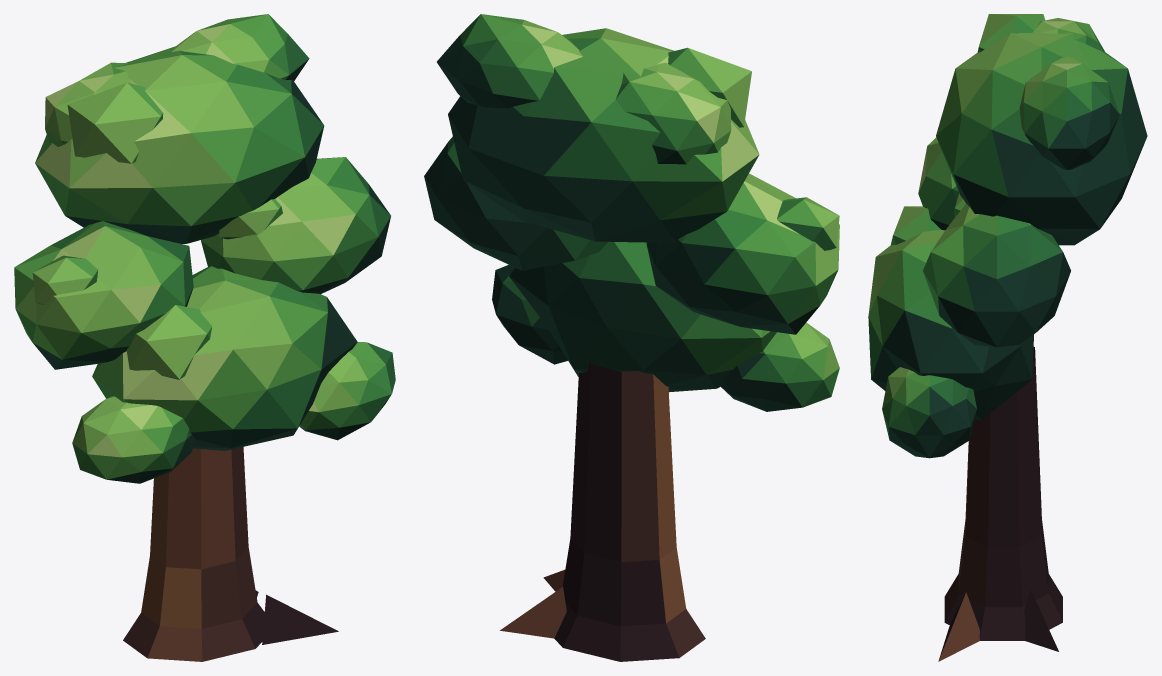
File: tree_tree2.glb
3 renders of one model, left to right at view 1: azimuth 30°, elevation 25°; view 2: azimuth 150°, elevation 25°; view 3: azimuth 270°, elevation 25°, orthographic. The views are drawn at different scales.
Visible parts, largest first — view 1: tree2; view 2: tree2; view 3: tree2.
Boxes of the visible parts, x1,y1,x2,y2 form: tree2: (14,14,395,661); tree2: (424,14,839,661); tree2: (868,14,1147,661).
Size of the model in its own units: 1 by 1.52 by 0.6753.
